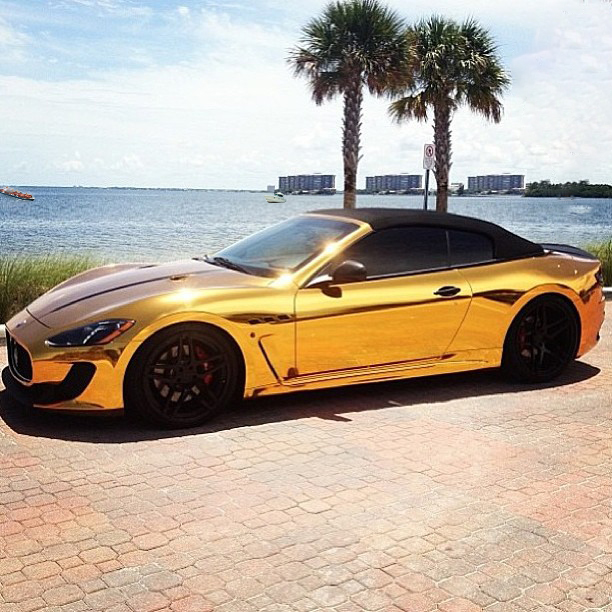copymove: (272, 170, 338, 193)
removal: (547, 1, 612, 281)
spliced: (1, 187, 40, 203)
